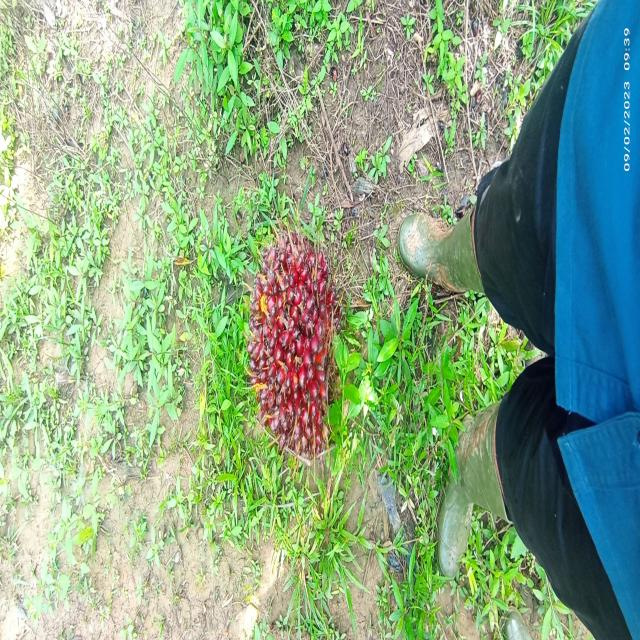fraksi 3: (237, 218, 349, 466)
